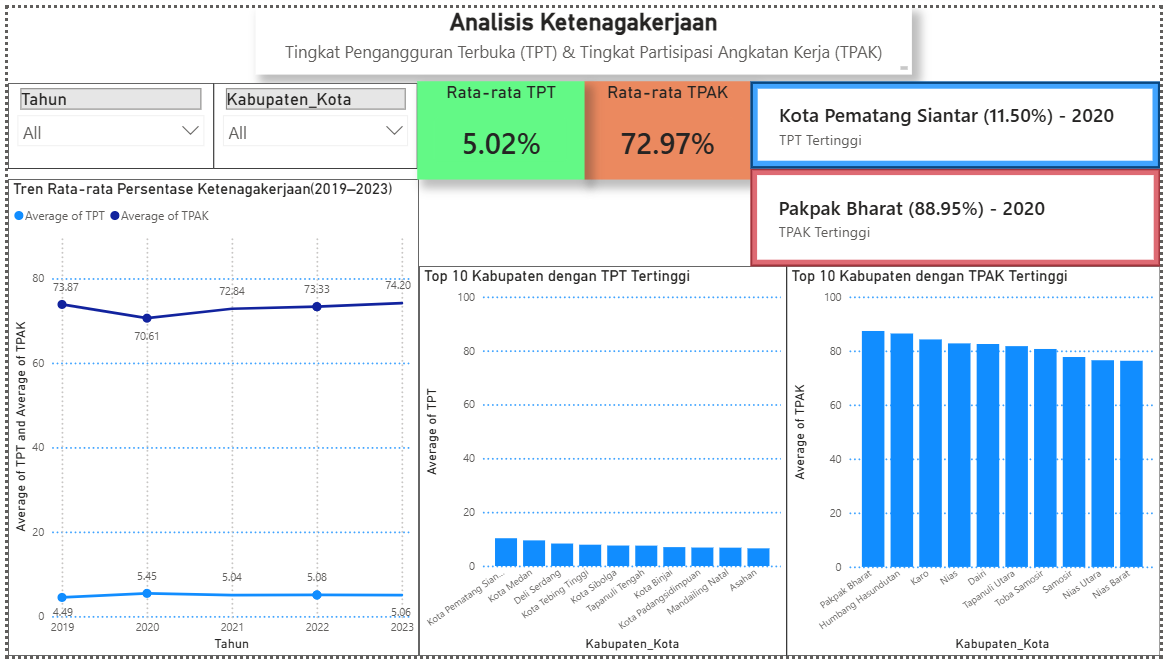

Layout of this report page (visuals, bound fields, positions):
{"tool":"powerbi","page":{"name":"📊Analisis Ketenagakerjaan","canvas":[1280,720],"ordinal":4},"visuals":[{"type":"lineChart","title":"Tren Rata-rata Persentase Ketenagakerjaan(2019–2023)","fields":{"Category":["dim_tahun.Tahun"],"Y":["Avg(tpt_master.TPT)","Avg(tpt_master.TPAK)"]},"box":[0,190,456.7,530],"z":0},{"type":"clusteredColumnChart","title":"Top 10 Kabupaten dengan TPAK Tertinggi","fields":{"Category":["dim_wilayah.Kabupaten_Kota"],"Y":["Avg(tpt_master.TPAK)"]},"box":[865,286.7,415,433.3],"z":1000},{"type":"textbox","title":"Analisis Ketenagakerjaan","box":[275.3,0,729.5,73.7],"z":2000},{"type":"slicer","fields":{"Values":["dim_tahun.Tahun"]},"box":[0,83.3,228.3,95],"z":3000},{"type":"slicer","fields":{"Values":["dim_wilayah.Kabupaten_Kota"]},"box":[228.3,83.3,226.7,95],"z":4000},{"type":"cardVisual","title":"Rata-rata TPAK","fields":{"Data":["Tables.Average TPAK"]},"box":[640,81.7,185,108.3],"z":5000},{"type":"cardVisual","title":"Rata-rata TPT","fields":{"Data":["Tables.Average TPT"]},"box":[455,81.7,185,108.3],"z":6000},{"type":"clusteredColumnChart","title":"Top 10 Kabupaten dengan TPT Tertinggi","fields":{"Category":["dim_wilayah.Kabupaten_Kota"],"Y":["Avg(tpt_master.TPT)"]},"box":[456.7,286.7,408.3,433.3],"z":7000},{"type":"cardVisual","fields":{"Data":["Tables.TPAK Tertinggi"]},"box":[825,178.3,455,108.3],"z":8000},{"type":"cardVisual","fields":{"Data":["Tables.TPT Tertinggi"]},"box":[825,81.7,455,96.7],"z":9000}]}

Visuals, with their boxes in screenshot pixels (x1, y1, x2, y2), scaled from the page's 1280x720 canvas onto the 1168x661 screenshot:
"Tren Rata-rata Persentase Ketenagakerjaan(2019–2023)" lineChart: select_region(0, 174, 417, 660)
"Top 10 Kabupaten dengan TPAK Tertinggi" clusteredColumnChart: select_region(789, 263, 1167, 660)
"Analisis Ketenagakerjaan" textbox: select_region(251, 0, 917, 68)
slicer - dim_tahun.Tahun: select_region(0, 76, 208, 164)
slicer - dim_wilayah.Kabupaten_Kota: select_region(208, 76, 415, 164)
"Rata-rata TPAK" cardVisual: select_region(584, 75, 753, 174)
"Rata-rata TPT" cardVisual: select_region(415, 75, 584, 174)
"Top 10 Kabupaten dengan TPT Tertinggi" clusteredColumnChart: select_region(417, 263, 789, 660)
cardVisual - Tables.TPAK Tertinggi: select_region(753, 164, 1167, 263)
cardVisual - Tables.TPT Tertinggi: select_region(753, 75, 1167, 164)
